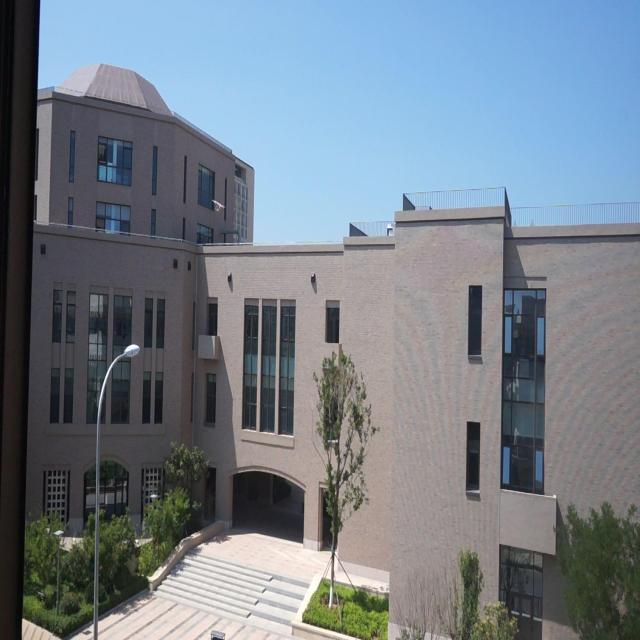drone: (210, 196, 227, 218)
